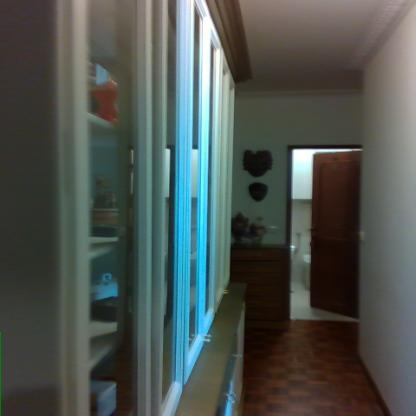semi: (282, 136, 371, 324)
